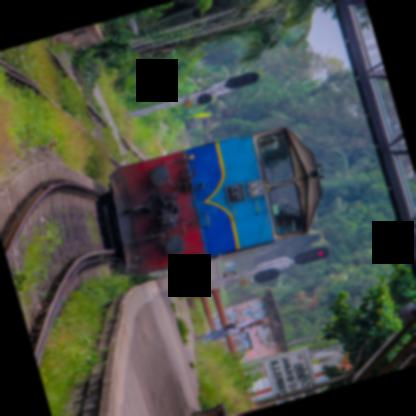handbag: (223, 323, 235, 330)
